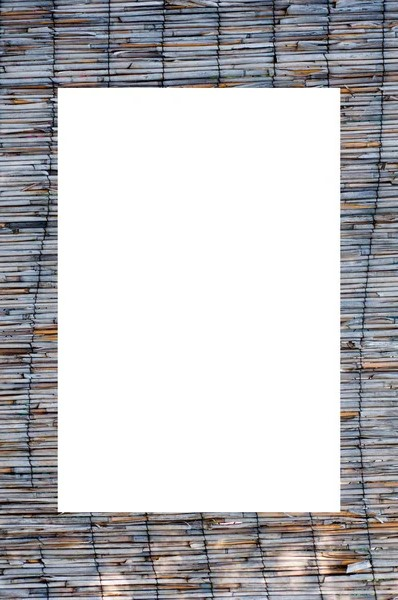page: (58, 89, 341, 509)
